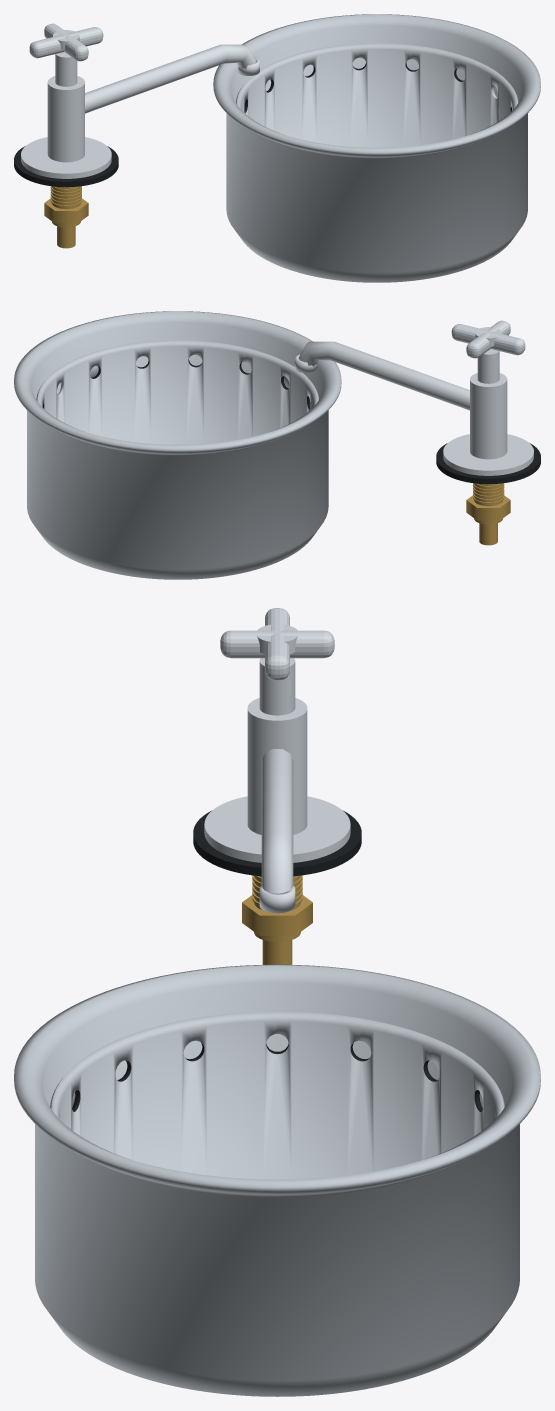
3 renders of one model, top to bottom at view 1: azimuth 30°, elevation 25°; view 2: azimuth 150°, elevation 25°; view 3: azimuth 270°, elevation 25°, orthographic. The views are drawn at different scales.
Visible parts, largest first — view 1: Open bowl with rolled mounting rim, Removable inner cup and raised overflow lip, Short spout directed into bowl, Faucet upright body, Faucet mounting escutcheon, Mounting gasket, Cross handle long arm, Hex mounting nut, Valve stem, Cross handle short arm, Supply mounting shank, Supply tail; view 2: Open bowl with rolled mounting rim, Removable inner cup and raised overflow lip, Short spout directed into bowl, Faucet upright body, Faucet mounting escutcheon, Mounting gasket, Cross handle long arm, Hex mounting nut, Valve stem, Cross handle short arm, Supply mounting shank, Supply tail; view 3: Open bowl with rolled mounting rim, Removable inner cup and raised overflow lip, Faucet mounting escutcheon, Faucet upright body, Short spout directed into bowl, Mounting gasket, Cross handle short arm, Hex mounting nut, Valve stem, Cross handle long arm.
Part boxes in pixels (x1=…): Open bowl with rolled mounting rim: x1=213, y1=14, x2=540, y2=282; Removable inner cup and raised overflow lip: x1=236, y1=43, x2=518, y2=147; Short spout directed into bowl: x1=85, y1=44, x2=256, y2=113; Faucet upright body: x1=47, y1=76, x2=84, y2=162; Faucet mounting escutcheon: x1=21, y1=137, x2=111, y2=178; Mounting gasket: x1=14, y1=146, x2=118, y2=187; Cross handle long arm: x1=29, y1=27, x2=103, y2=58; Hex mounting nut: x1=44, y1=198, x2=88, y2=223; Valve stem: x1=55, y1=52, x2=77, y2=86; Cross handle short arm: x1=44, y1=23, x2=88, y2=61; Supply mounting shank: x1=52, y1=186, x2=80, y2=227; Supply tail: x1=57, y1=226, x2=75, y2=248; Open bowl with rolled mounting rim: x1=14, y1=311, x2=341, y2=579; Removable inner cup and raised overflow lip: x1=36, y1=340, x2=318, y2=444; Short spout directed into bowl: x1=298, y1=341, x2=469, y2=410; Faucet upright body: x1=470, y1=373, x2=507, y2=459; Faucet mounting escutcheon: x1=443, y1=434, x2=533, y2=475; Mounting gasket: x1=436, y1=443, x2=540, y2=484; Cross handle long arm: x1=451, y1=324, x2=525, y2=355; Hex mounting nut: x1=466, y1=495, x2=510, y2=520; Valve stem: x1=477, y1=349, x2=499, y2=383; Cross handle short arm: x1=466, y1=320, x2=510, y2=358; Supply mounting shank: x1=474, y1=483, x2=502, y2=524; Supply tail: x1=479, y1=523, x2=497, y2=545; Open bowl with rolled mounting rim: x1=14, y1=964, x2=540, y2=1396; Removable inner cup and raised overflow lip: x1=50, y1=1011, x2=504, y2=1179; Faucet mounting escutcheon: x1=204, y1=796, x2=350, y2=862; Faucet upright body: x1=247, y1=698, x2=307, y2=834; Short spout directed into bowl: x1=261, y1=749, x2=293, y2=893; Mounting gasket: x1=193, y1=810, x2=361, y2=876; Cross handle short arm: x1=220, y1=630, x2=334, y2=658; Hex mounting nut: x1=242, y1=895, x2=312, y2=935; Valve stem: x1=259, y1=658, x2=295, y2=715; Cross handle long arm: x1=265, y1=608, x2=289, y2=680.
Size of the model in its own units: 0.2508 by 0.1461 by 0.1429.
